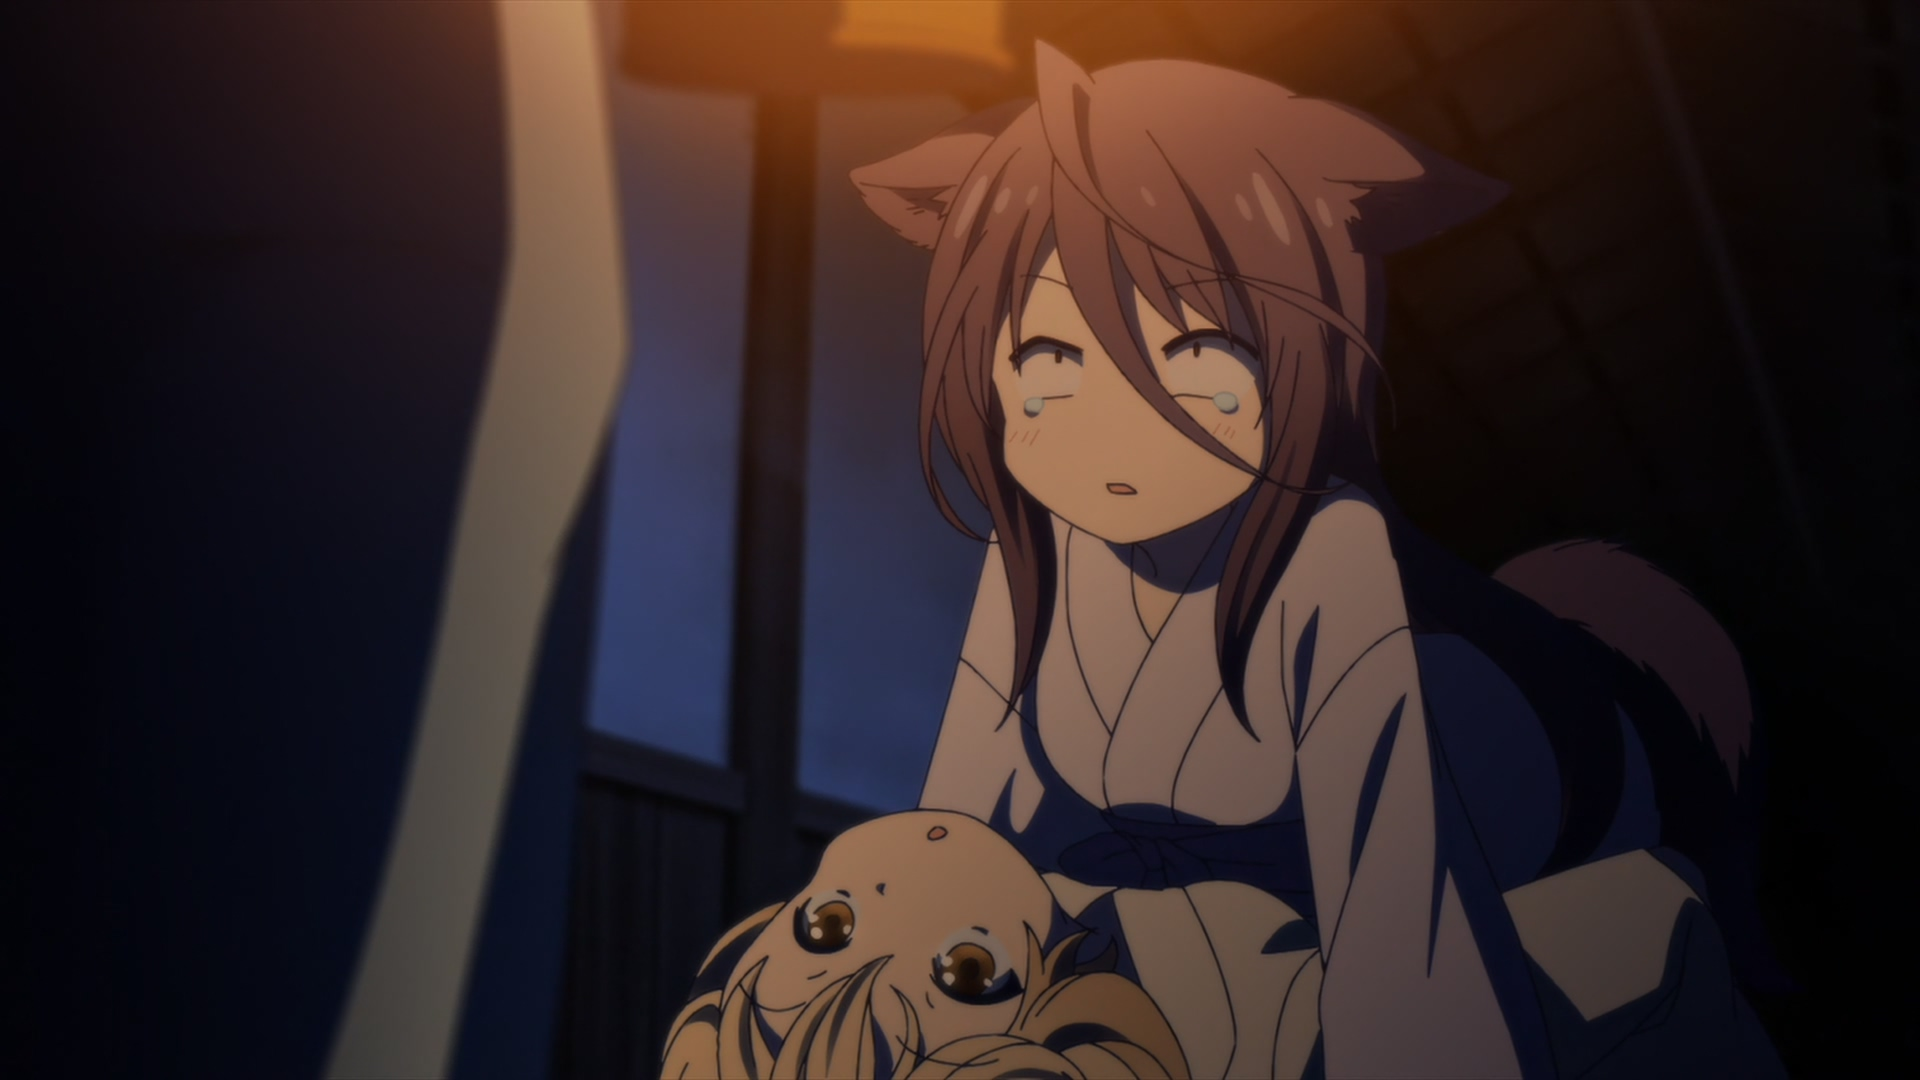柚: (665, 807, 1702, 1080)
皋: (849, 33, 1754, 1080)
